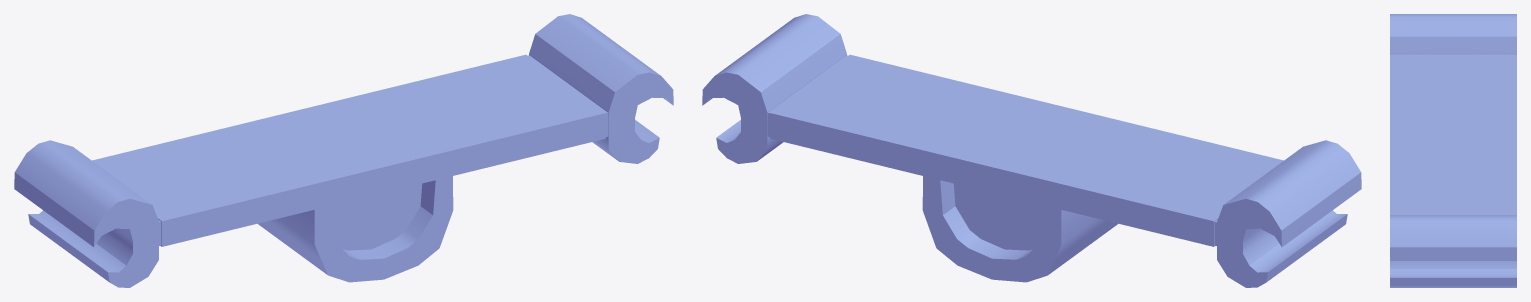
File: Platform_2.fbx
3 renders of one model, left to right at view 1: azimuth 30°, elevation 25°; view 2: azimuth 150°, elevation 25°; view 3: azimuth 270°, elevation 25°, orthographic. The views are drawn at different scales.
Parts seen in each view (by area): view 1: Platform_2; view 2: Platform_2; view 3: Platform_2.
Boxes of the visible parts, box(x1,y1,x2,y2) form: Platform_2: box(14, 14, 673, 287); Platform_2: box(702, 14, 1361, 287); Platform_2: box(1390, 14, 1516, 287).
Bounding box in the file's own units: 9.66 × 2.28 × 2.3.
